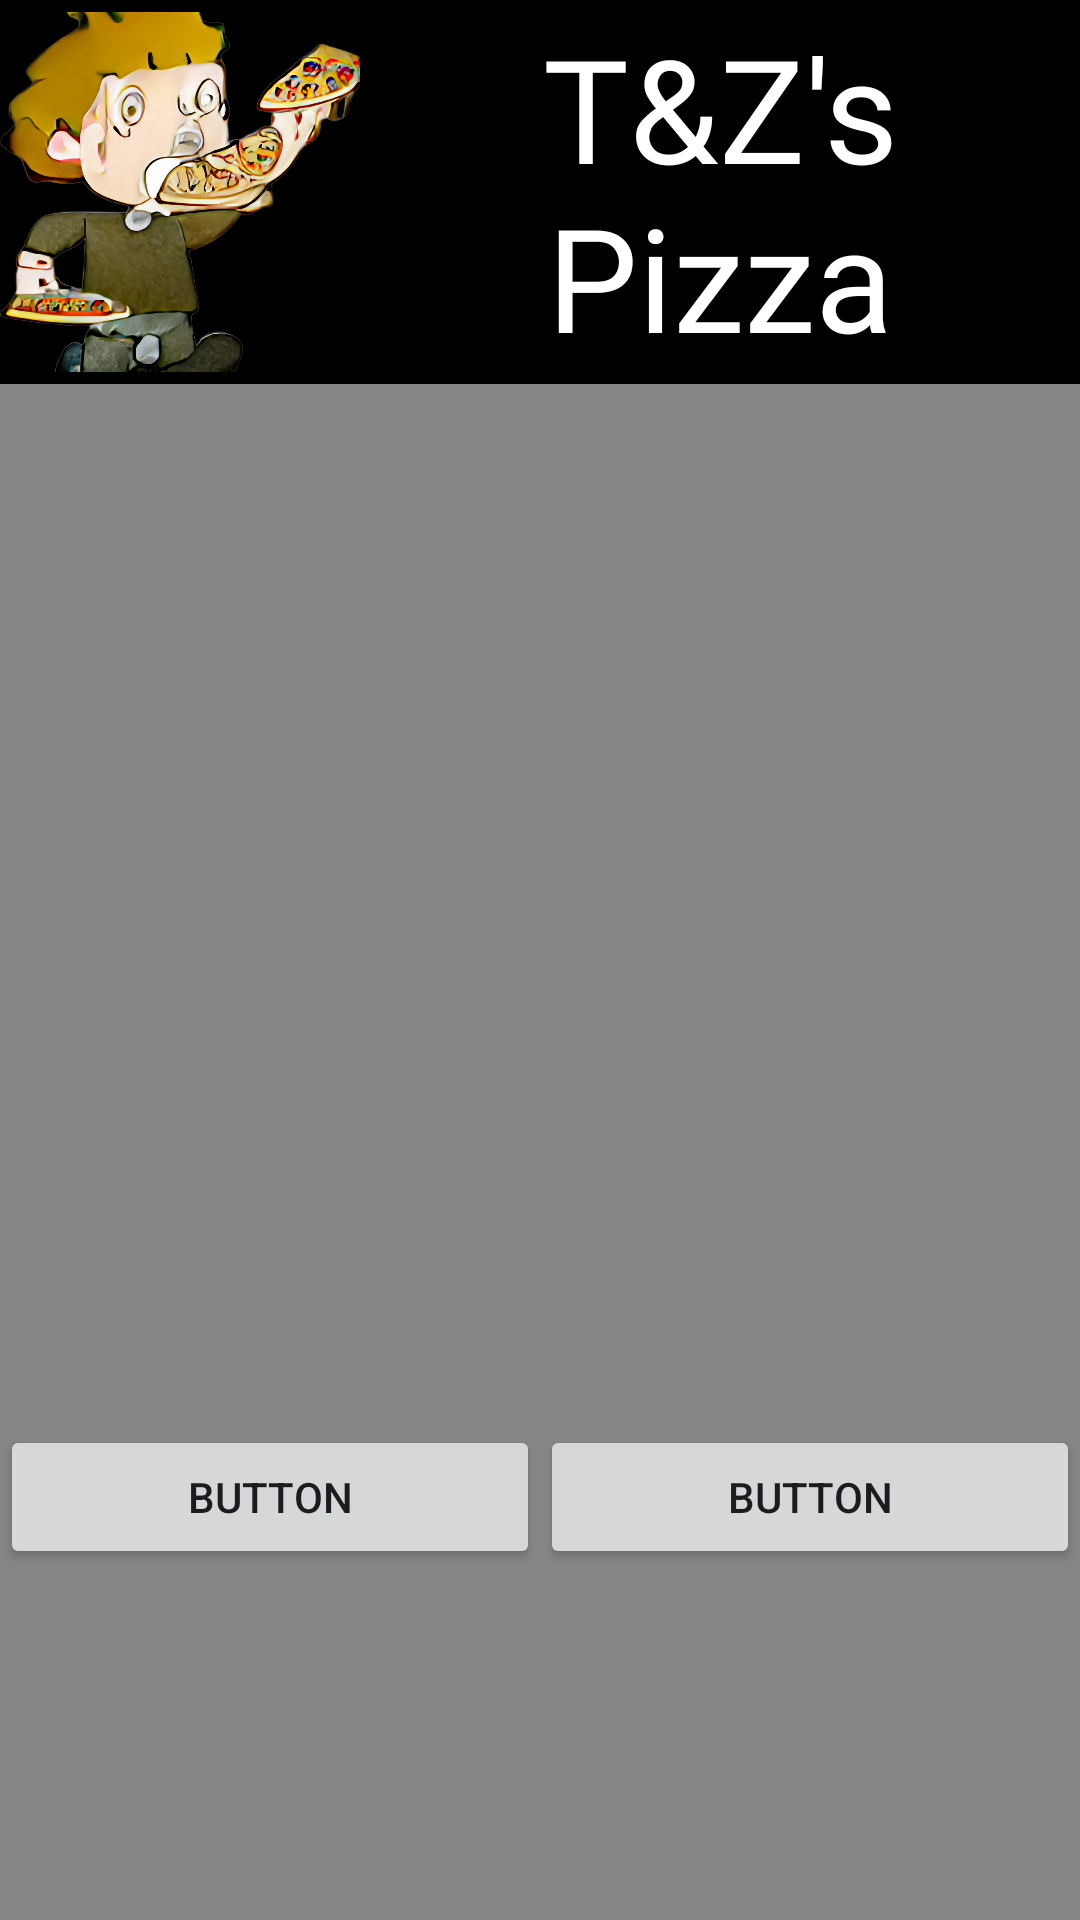

Named icons in this screenshot (1080 × 1920) and their centers, point (x, y):
storeicon: point (180, 192)
